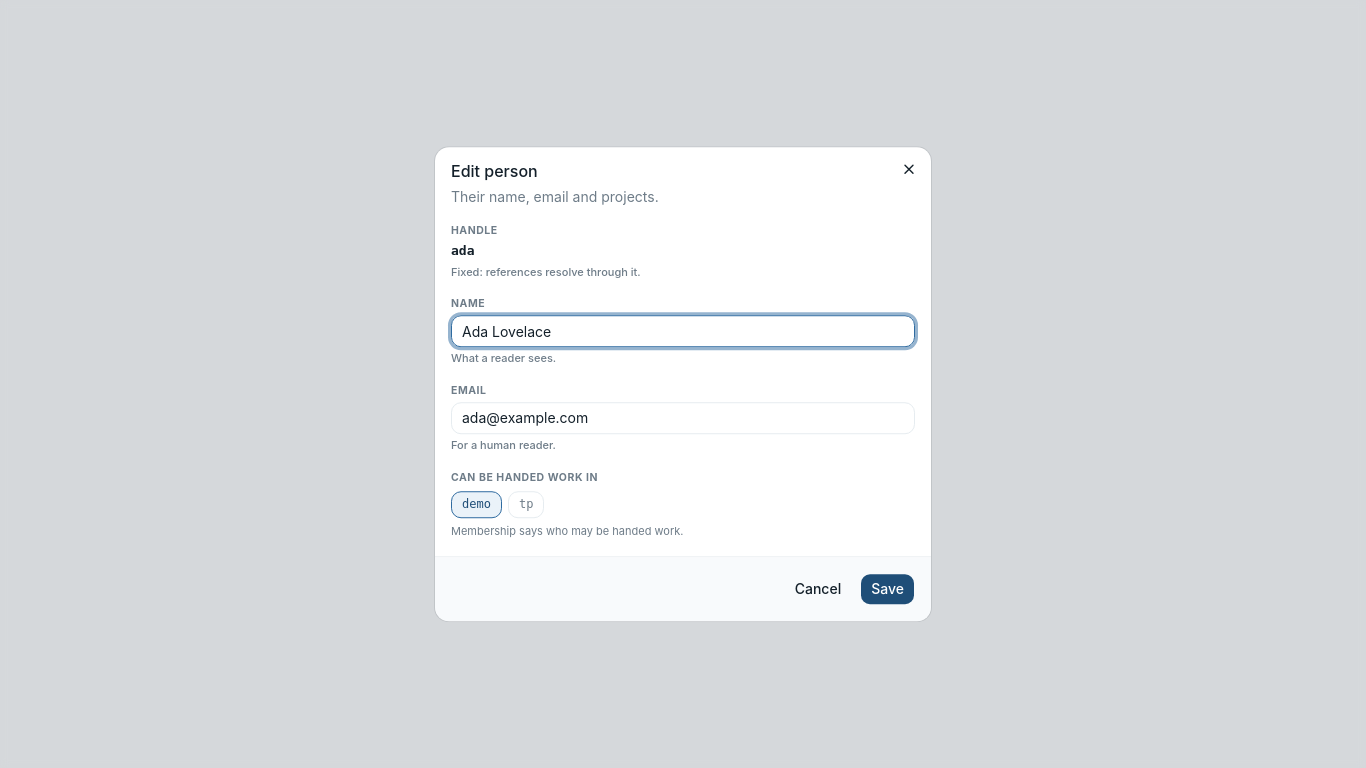
Scenario: PersonDialog, editing › surfaces a refusal from the server instead of closing on it
Click the button "Save" at (888,589), box [860,573,915,605]
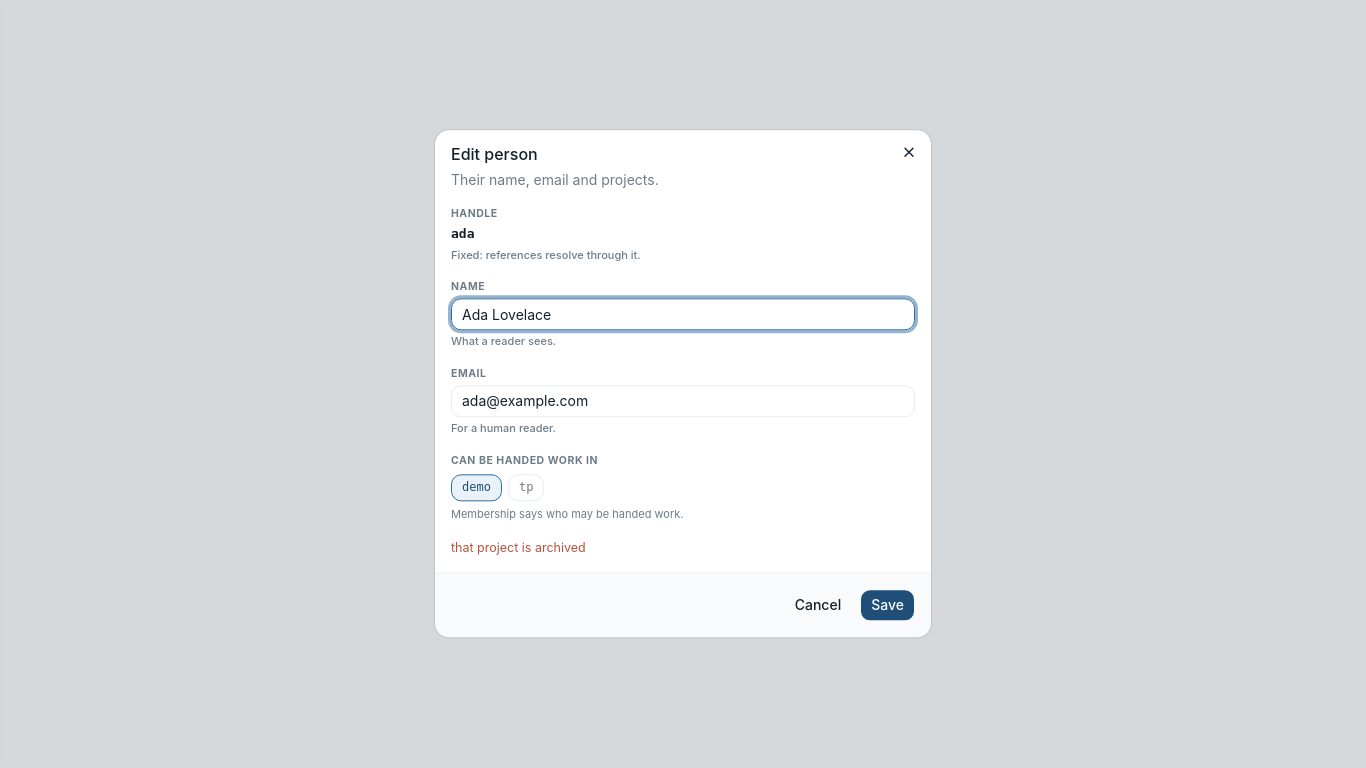
Now the text "that project is archived" is shown, box [451,540,586,555]
